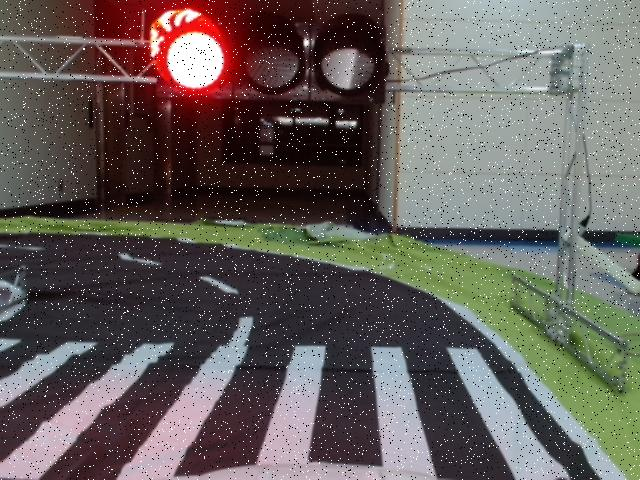crosswalk: (0, 336, 573, 480)
traffic light-red-: (150, 11, 389, 104)
